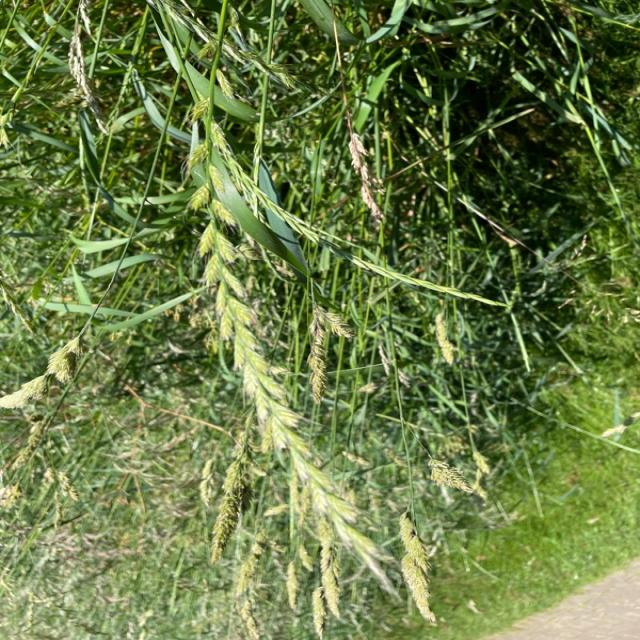Lolium: (0, 0, 470, 616), (185, 102, 368, 548)
